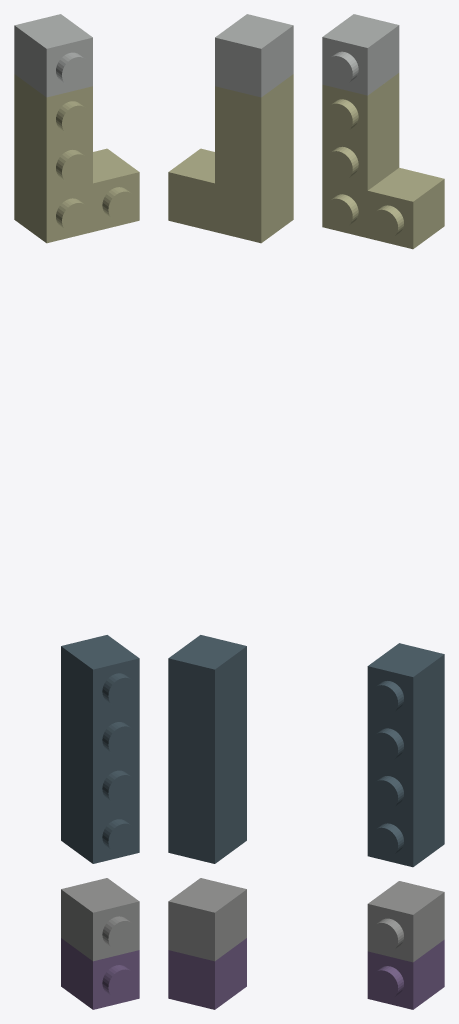
File: current.glb
3 views of the same model, side by side, from view 1: azimuth 30°, elevation 25°; view 2: azimuth 150°, elevation 25°; view 3: azimuth 330°, elevation 25° (orthographic). The views are drawn at different scales.
Parts seen in each view (by area): view 1: world; view 2: world; view 3: world.
Part boxes in pixels (<box>): world: <box>14,14,139,1009</box>; world: <box>168,14,293,1009</box>; world: <box>322,14,444,1009</box>.
Bounding box in the file's own units: 16 × 160 × 11.4.
